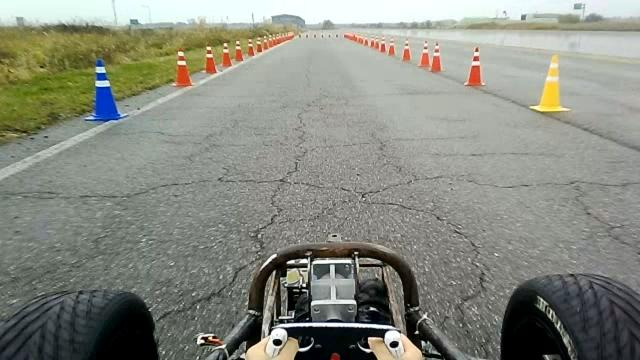blue cone: (83, 57, 129, 122)
red cone: (170, 47, 193, 87), (464, 46, 485, 86), (203, 42, 218, 74), (429, 41, 444, 72), (418, 40, 430, 67), (220, 42, 232, 67), (401, 37, 412, 62), (234, 40, 244, 62), (387, 37, 396, 56), (247, 38, 255, 56), (379, 35, 386, 52)
yellow cone: (529, 54, 571, 112)
